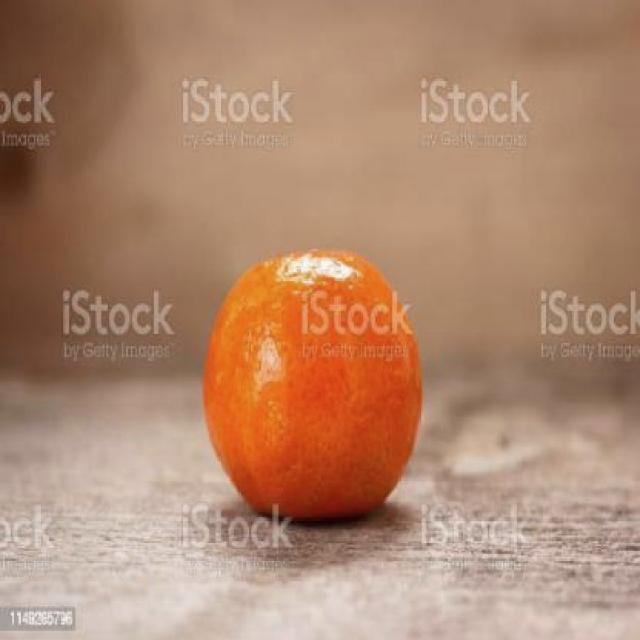Jeruk Sudah Matang: (206, 255, 425, 520)
